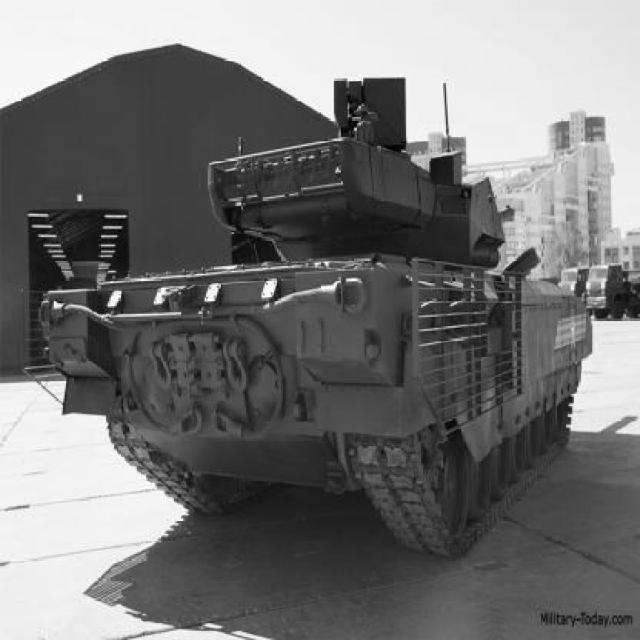Tank: (39, 77, 595, 560)
